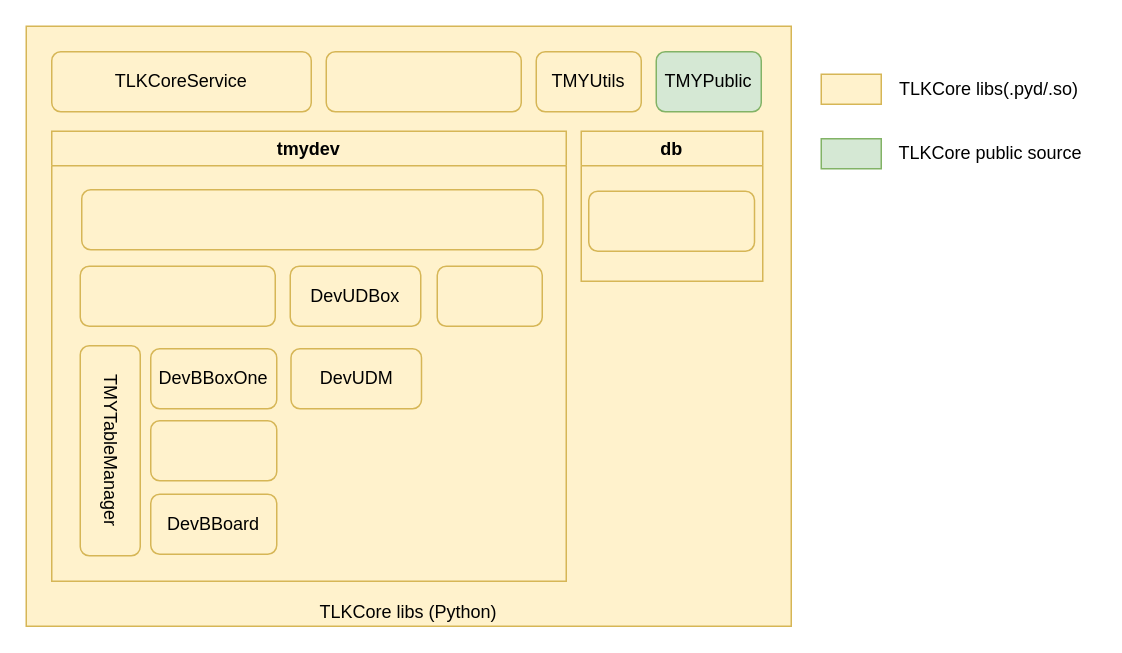
This 1122x653 diagram has some shape labels left out. The centre of each missing label's shape, as x and y in pixels:
DevBBox: (x=177, y=295)
DevBBoxLite: (x=213, y=450)
Device: (x=311, y=219)
DevPD: (x=489, y=295)
TMYCommService: (x=423, y=81)
TMYDBQueryer: (x=670, y=220)
